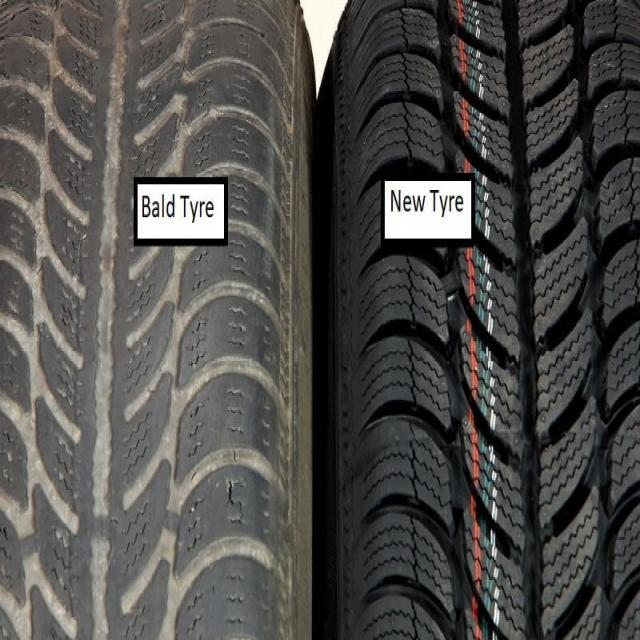Flat spots: (0, 4, 308, 640)
Non-defective: (333, 0, 640, 640)
